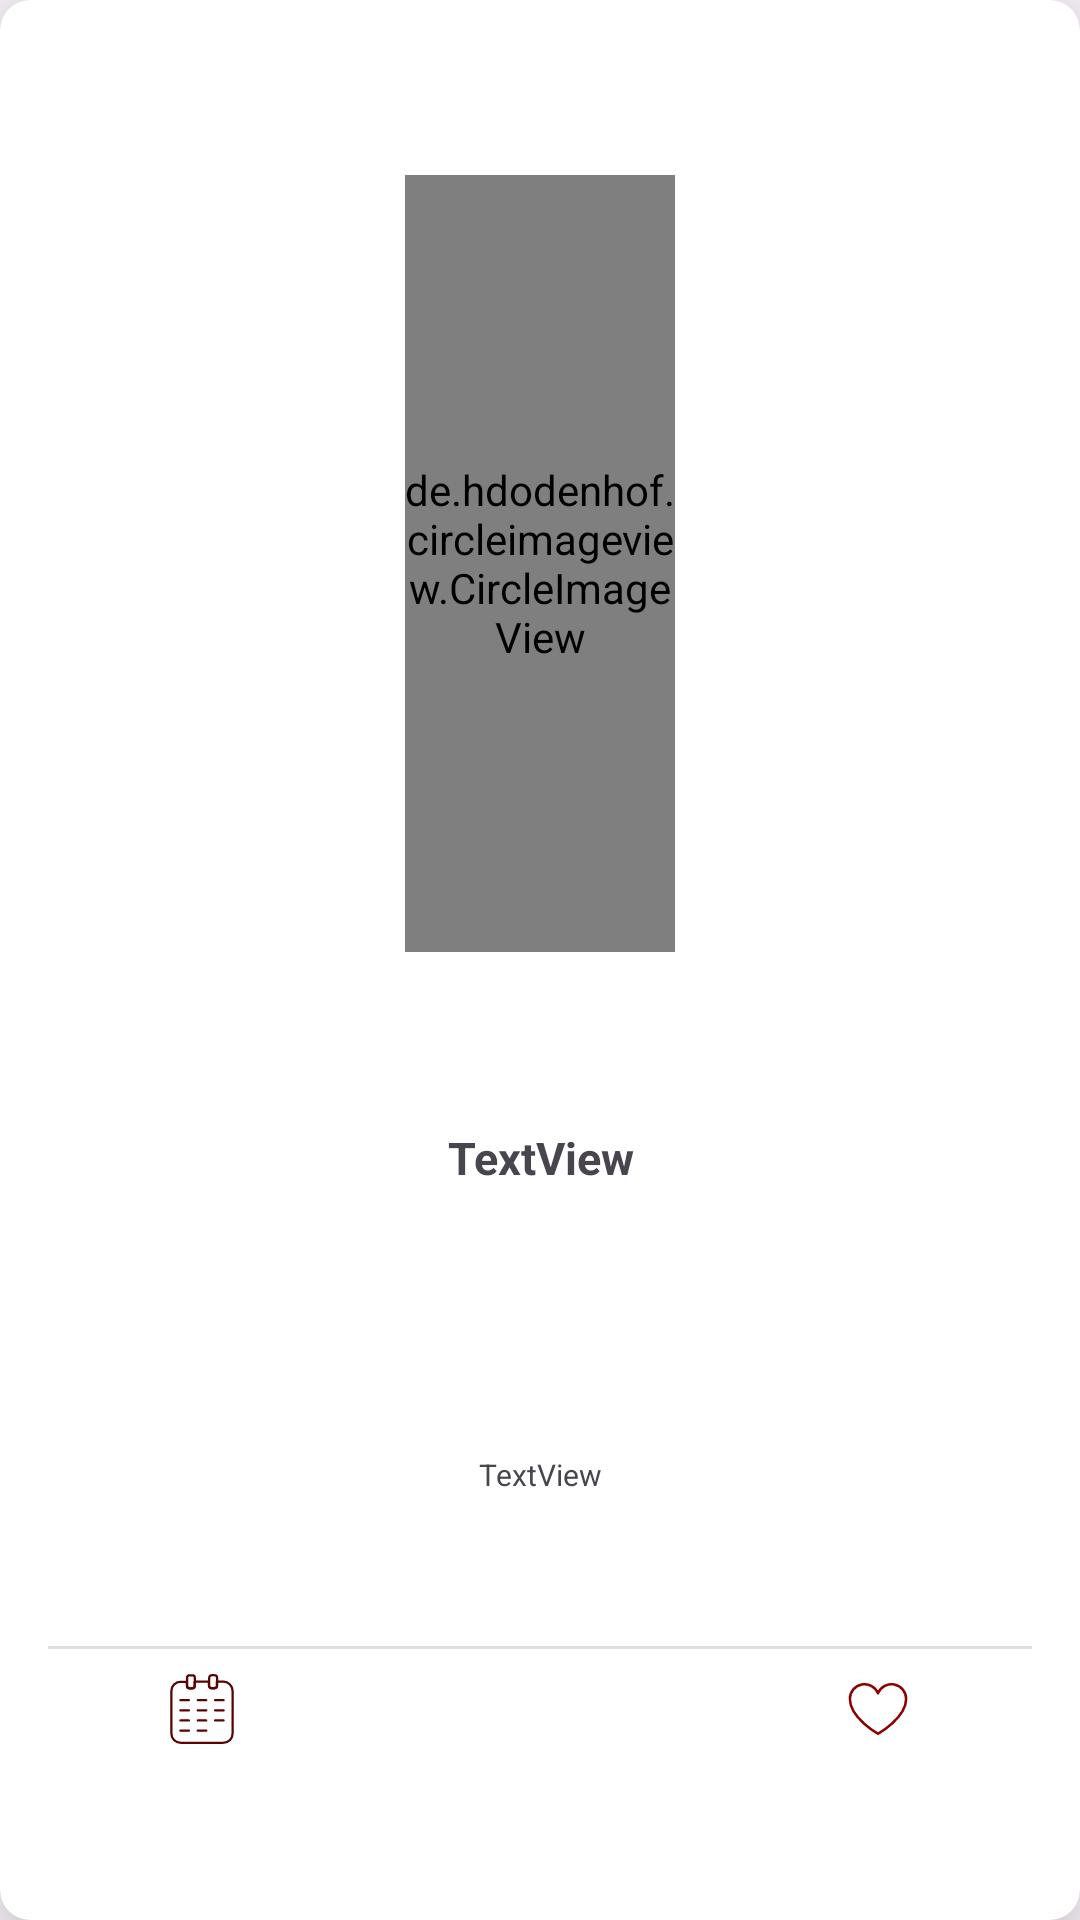

Locate icon controls on the screen. Image size 1080 × 1920, boxes as (x1=x1, y1=y1, x2=x2, y2=y2).
calender agenda: (x1=170, y1=1674, x2=234, y2=1744)
heart: (x1=848, y1=1683, x2=908, y2=1735)
